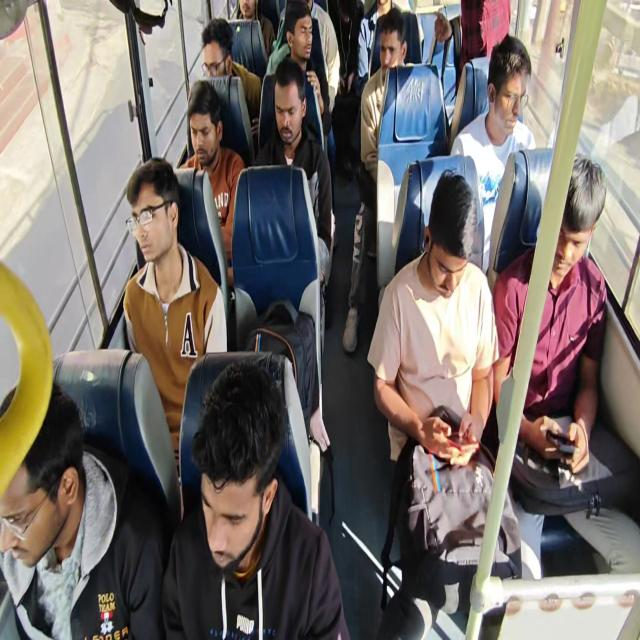person: (1, 1, 638, 638), (366, 168, 522, 638), (491, 152, 639, 579), (161, 360, 351, 639), (0, 379, 165, 639), (122, 156, 228, 479), (342, 7, 409, 354), (449, 33, 536, 274), (254, 58, 334, 289), (178, 78, 246, 284), (187, 17, 261, 152), (264, 0, 331, 145), (434, 0, 511, 93), (356, 0, 422, 85), (232, 0, 275, 57)
